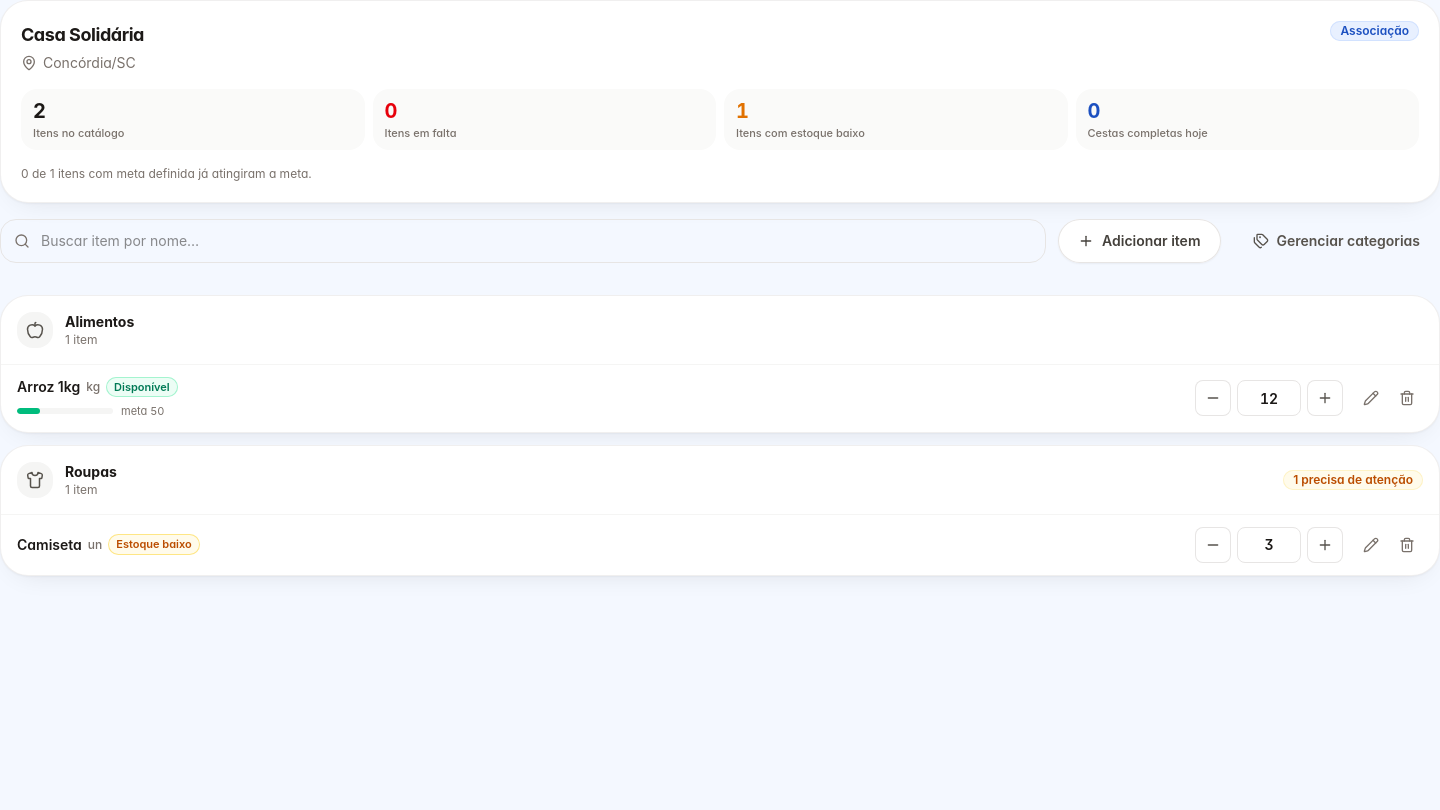
it: StockEditor › abre o formulário de edição preenchido ao clicar em editar
Click the button named "Editar Arroz 1kg": x=1371, y=398 [1355,382,1387,414]
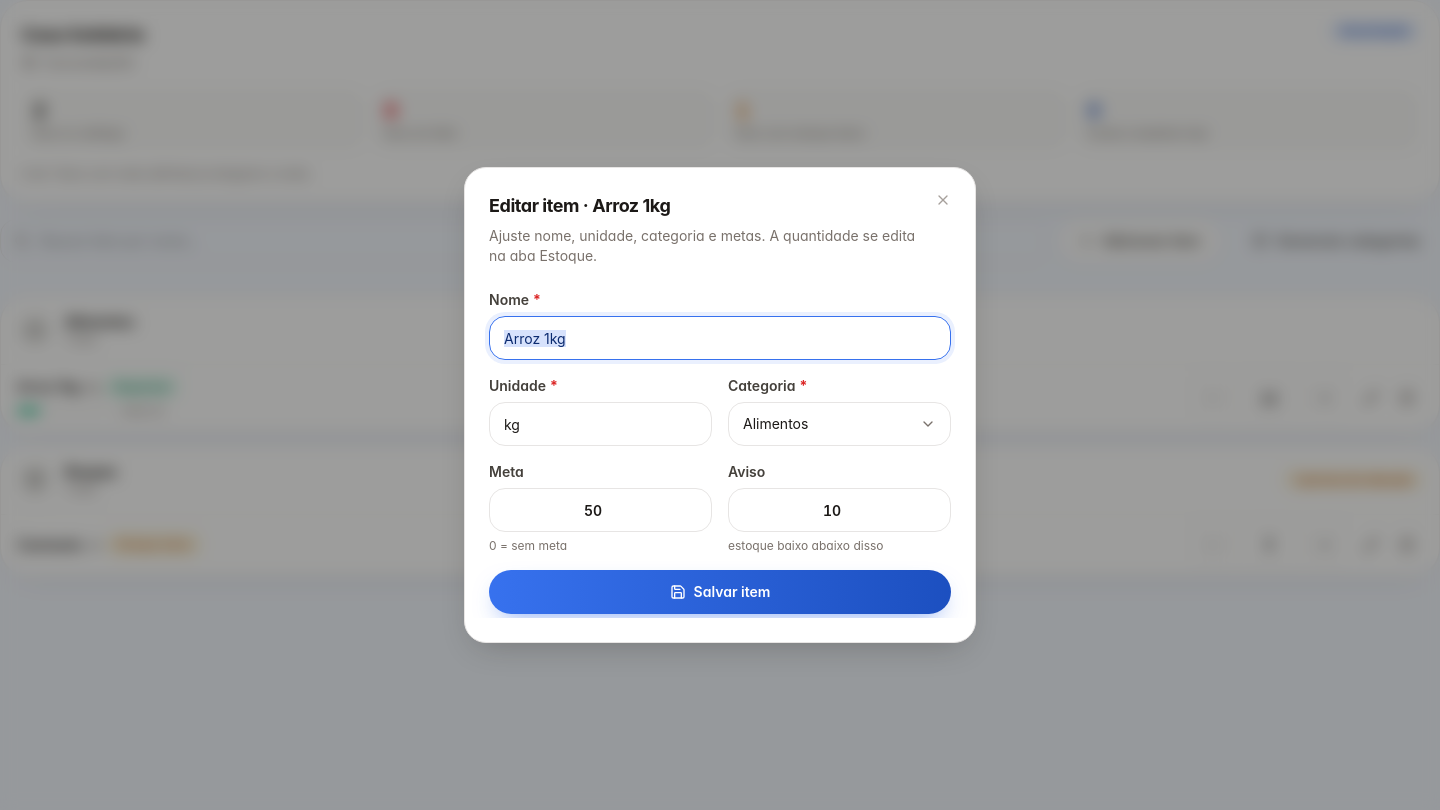
Check: the dialog is shown, box [464,167,976,643]
Check: the field labelled "Nome" holds "Arroz 1kg", box [489,316,951,360]
